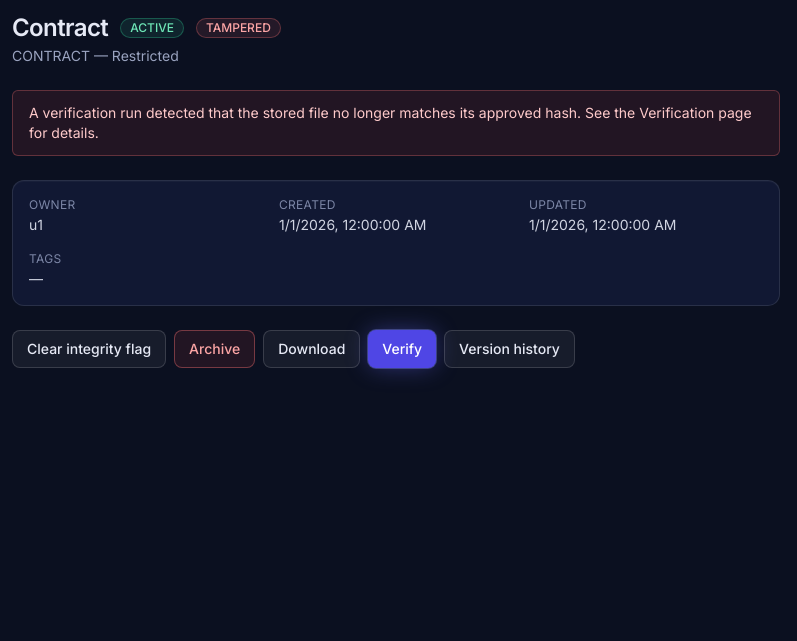
clearing a TAMPERED integrity flag (D-025) › requires a reason of at least 10 characters before it can be submitted
Click the button "Clear integrity flag".
click(89, 349)  # box [12,330,166,368]
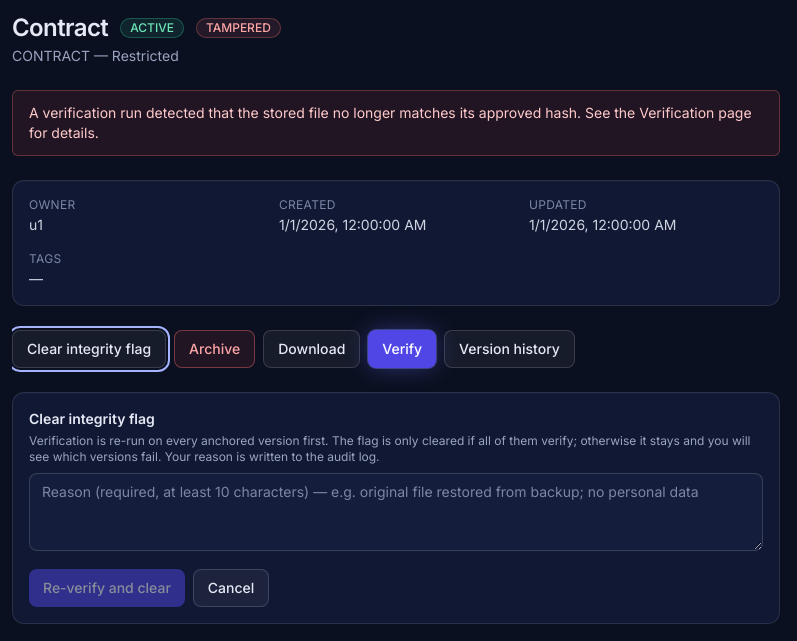
Expected: the button "Re-verify and clear" is disabled, [29,569,185,607]
Type "too short" into the text box named "reason for clearing".
click(396, 512); type("too short")  # box [29,473,763,551]
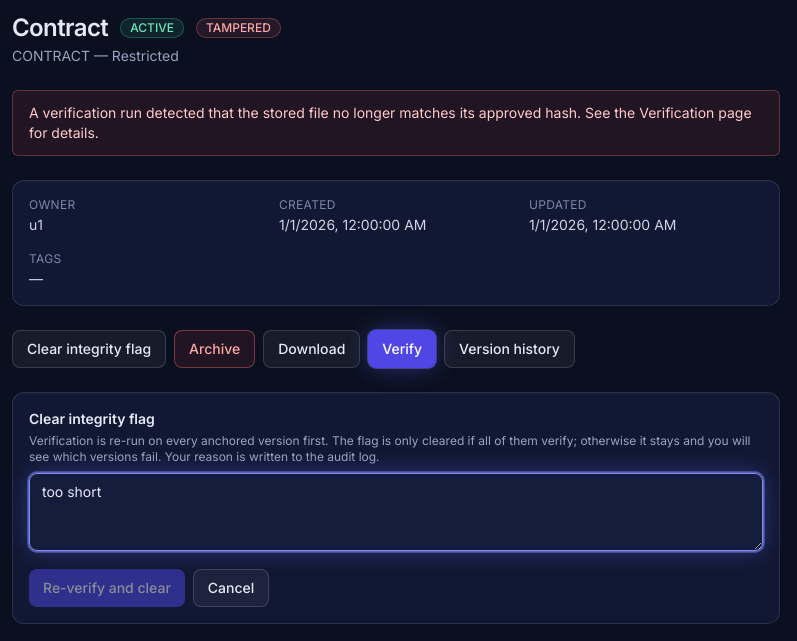
Expected: the button "Re-verify and clear" is disabled, [29,569,185,607]
Type " — now long enough" into the text box named "reason for clearing".
click(396, 512); type(" — now long enough")  # box [29,473,763,551]
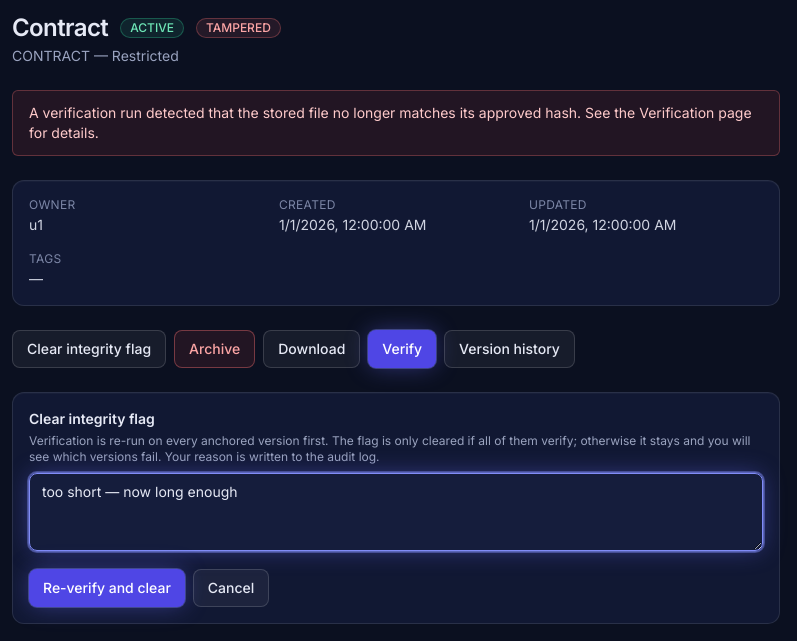
Expected: the button "Re-verify and clear" is enabled, [29,569,185,607]
